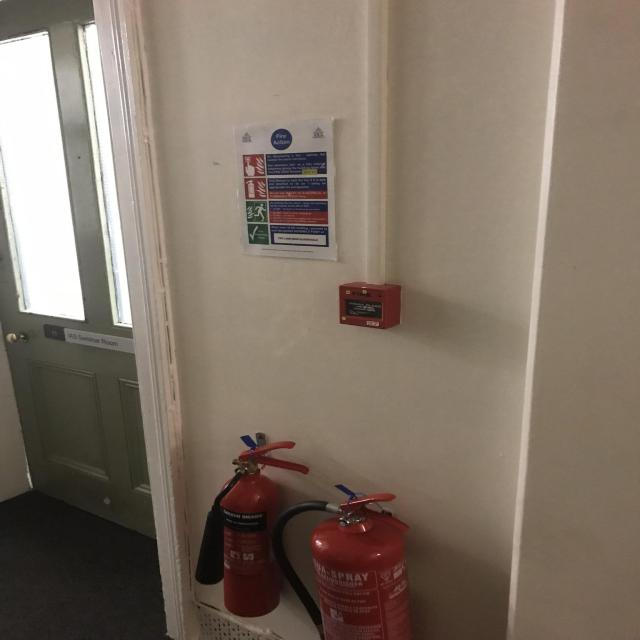fire_extinguisher: (268, 488, 422, 640), (194, 437, 312, 618)
